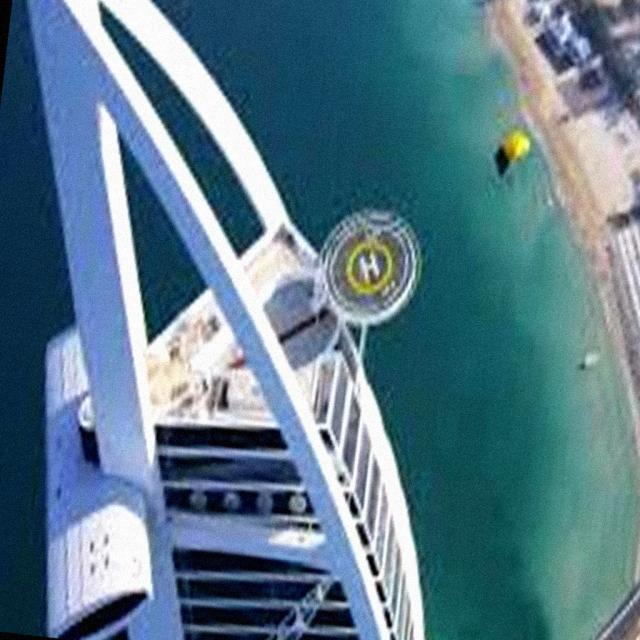helipad: (343, 238, 396, 296)
